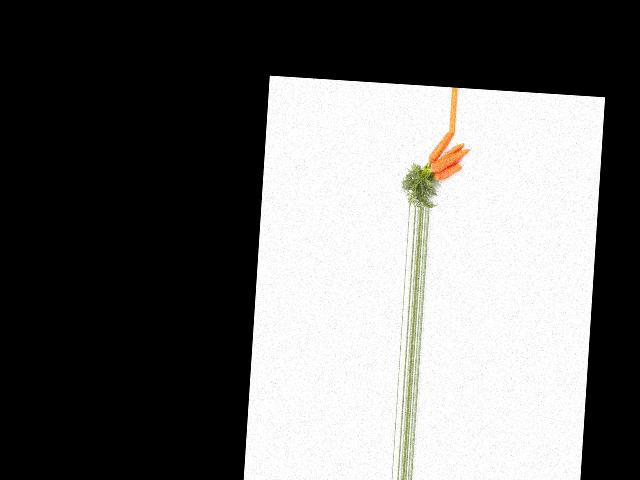carrot: (430, 161, 465, 183)
